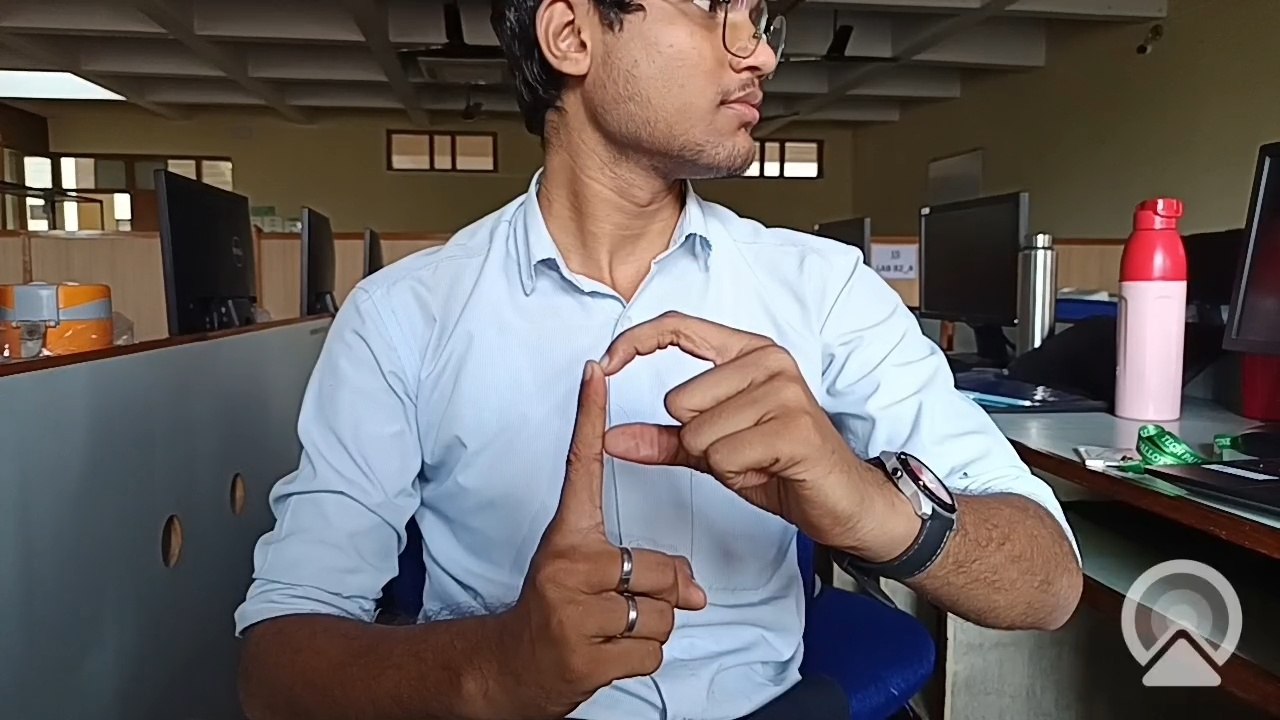P: (508, 293, 894, 694)
